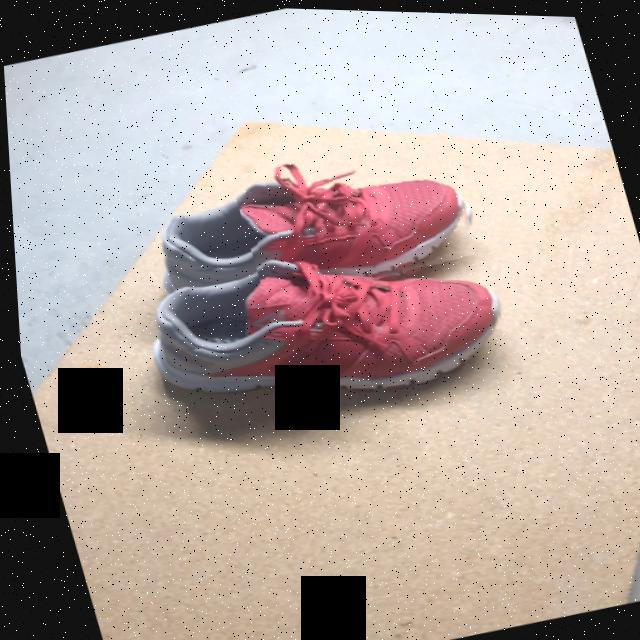shoe: (151, 263, 495, 375), (236, 162, 466, 277)
